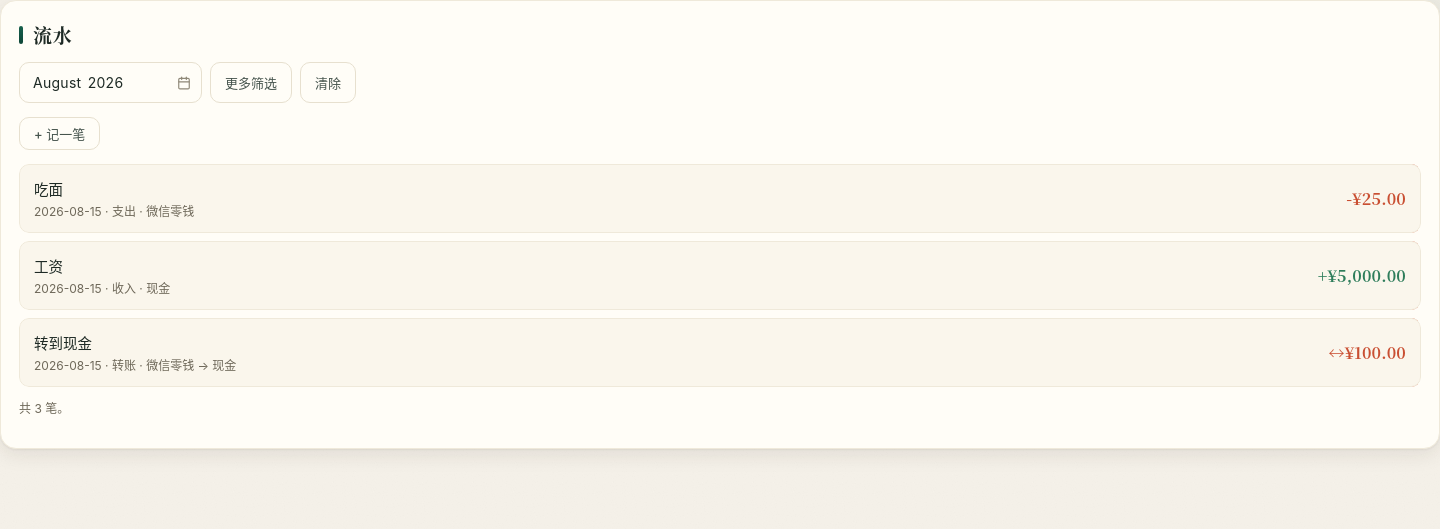
it: TxListView 筛选 › 按流水类型筛选：仅支出
This screenshot has width=1440, height=529.
Click the button "更多筛选": (251, 82) x1=210 y1=62 x2=292 y2=103
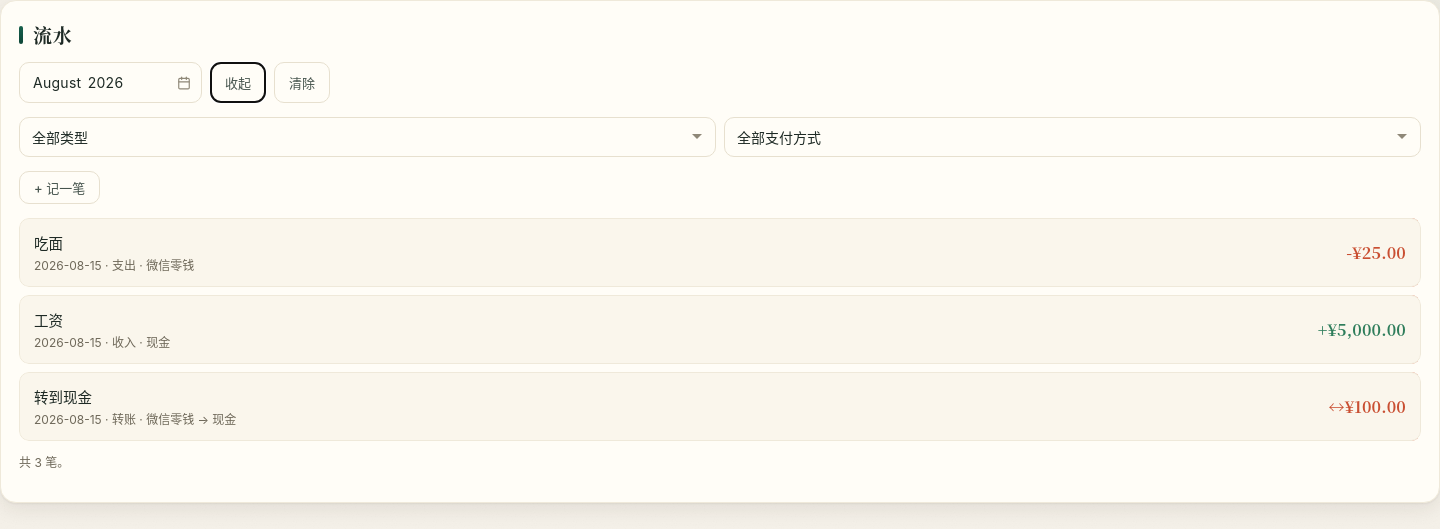
Select "支出" in the dropdown named "流水类型": (368, 137) x1=19 y1=117 x2=716 y2=157
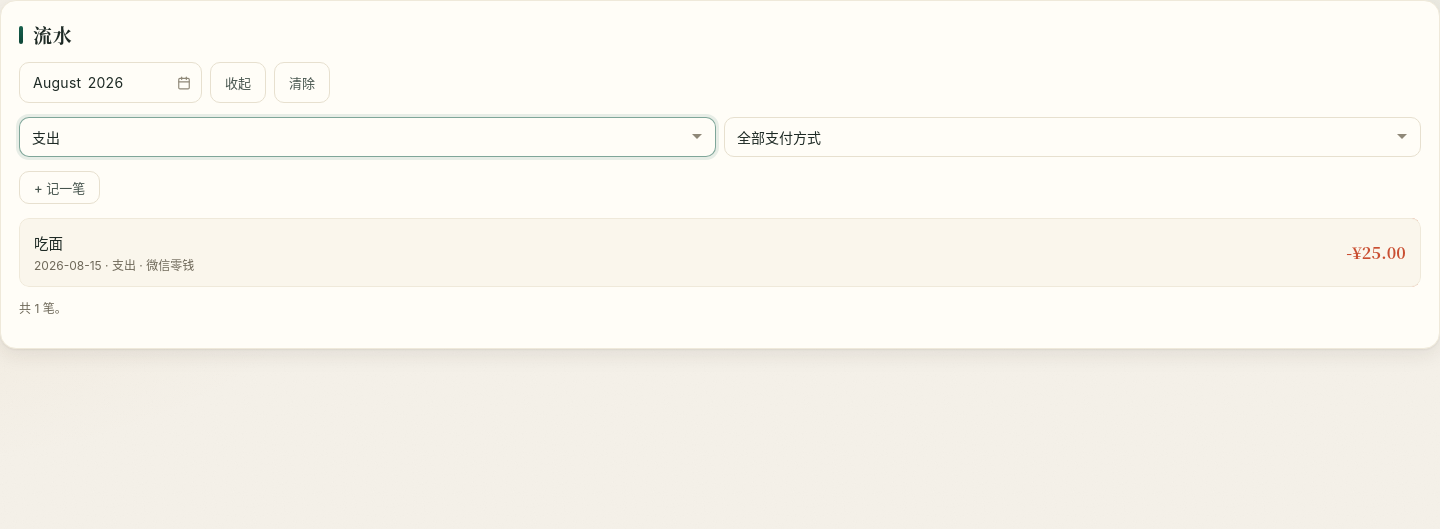
Expected: the text "共 1 笔。" is shown, x1=19 y1=301 x2=67 y2=316
Expected: the text "工资" is gone
Expected: the text "转到现金" is gone
